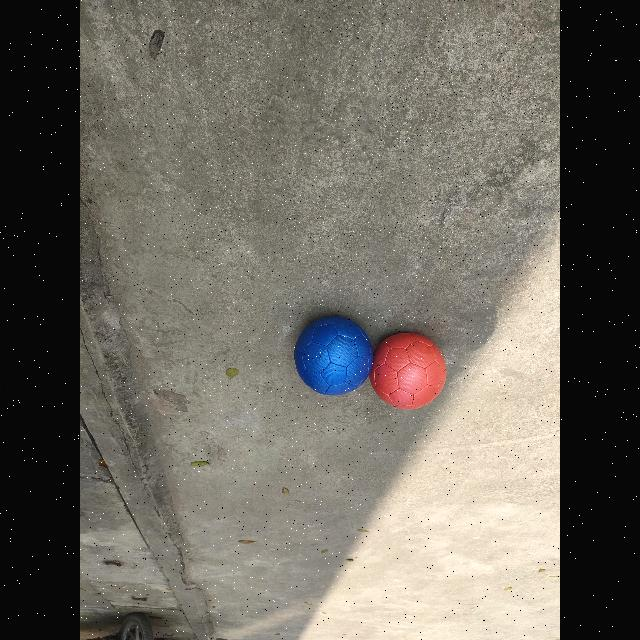B: (293, 313, 374, 395)
R: (368, 328, 447, 409)
